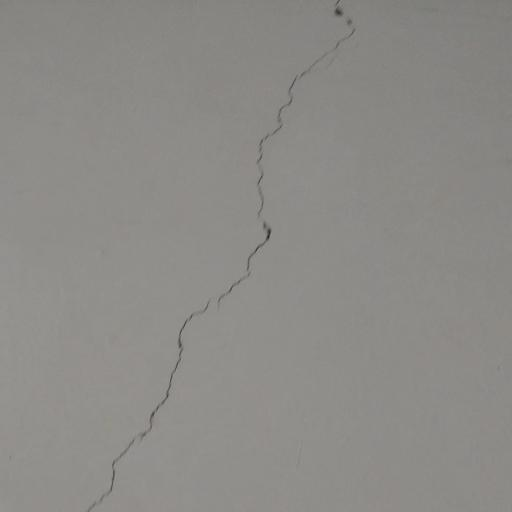major_crack: (76, 0, 366, 512)
